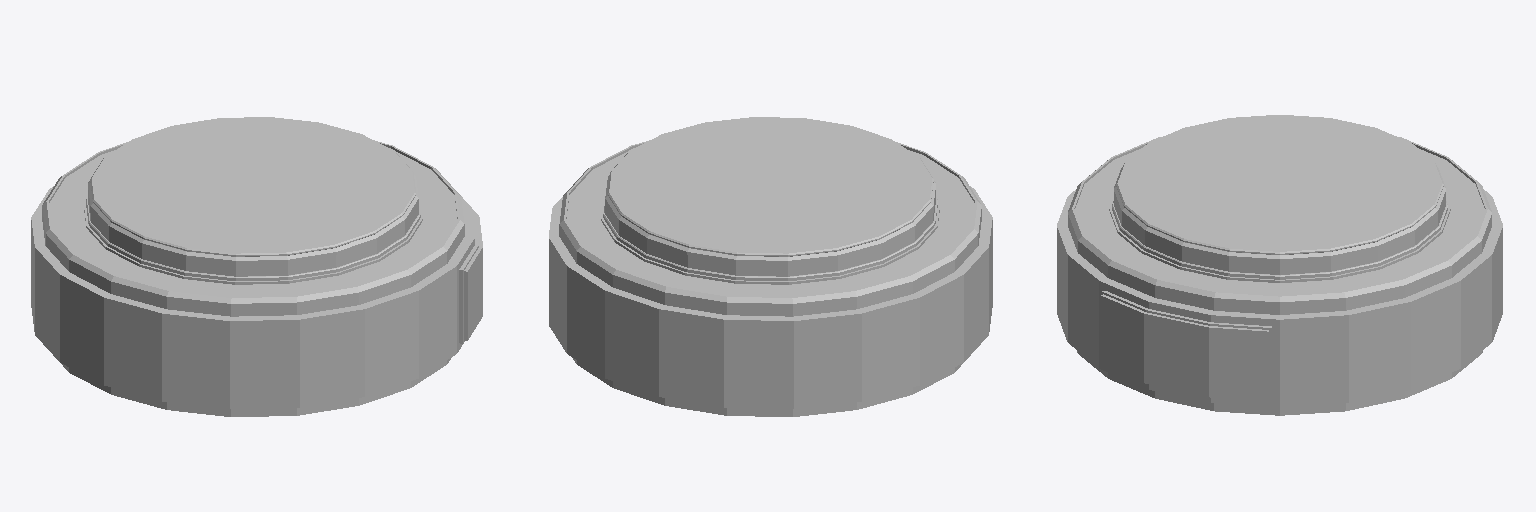
Rendered from statue stand.obj.
The picture shows the model from 3 angles: view 1: azimuth 30°, elevation 25°; view 2: azimuth 150°, elevation 25°; view 3: azimuth 270°, elevation 25°; orthographic projection.
Parts seen in each view (by area): view 1: pCylinder36group35; view 2: pCylinder36group35; view 3: pCylinder36group35.
Part boxes in pixels (x1,y1,x2,y2): pCylinder36group35: (31,117,482,416); pCylinder36group35: (549,117,992,416); pCylinder36group35: (1057,115,1502,415).
Size of the model in its own units: 19.88 by 6.92 by 19.6.